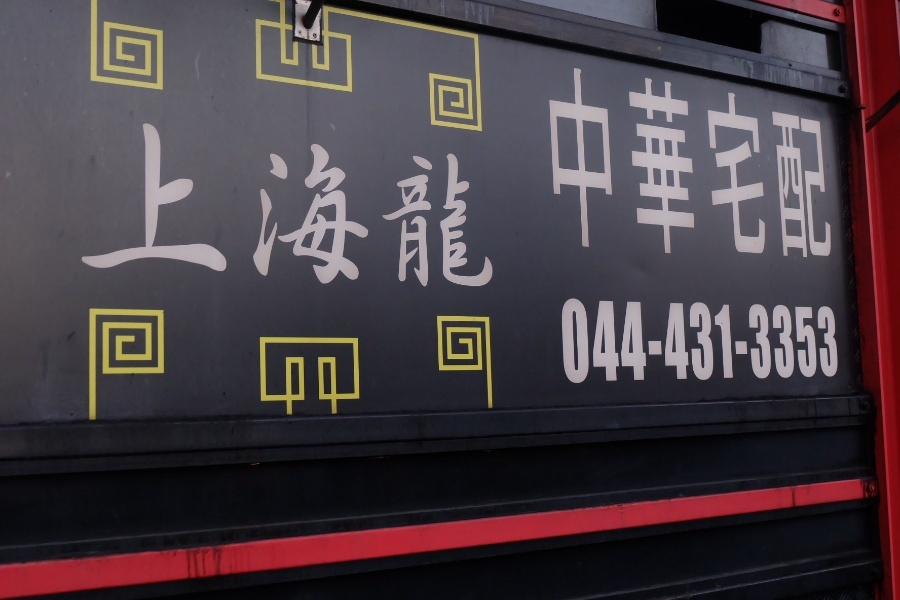text: (561, 54, 576, 265), (577, 54, 592, 265), (593, 54, 608, 265), (609, 54, 624, 265), (625, 54, 640, 265), (641, 54, 656, 265), (657, 54, 672, 265), (673, 54, 688, 265), (689, 54, 704, 265), (705, 54, 720, 265), (721, 54, 736, 265), (737, 54, 752, 265), (753, 54, 768, 265), (769, 54, 784, 265), (785, 54, 800, 265), (801, 54, 816, 265), (817, 54, 832, 265), (546, 54, 560, 265), (145, 120, 160, 300), (161, 120, 176, 300), (177, 120, 192, 300), (193, 120, 208, 300), (209, 120, 224, 300), (225, 120, 240, 300), (241, 120, 256, 300), (257, 120, 272, 300), (273, 120, 288, 300), (289, 120, 304, 300), (305, 120, 320, 300), (321, 120, 336, 300), (337, 120, 352, 300), (353, 120, 368, 300), (369, 120, 384, 300), (385, 120, 400, 300), (401, 120, 416, 300), (417, 120, 432, 300), (433, 120, 448, 300), (449, 120, 464, 300), (465, 120, 480, 300), (481, 120, 496, 300), (561, 295, 576, 387), (577, 295, 592, 387), (593, 295, 608, 387), (609, 295, 624, 387), (625, 295, 640, 387), (641, 295, 656, 387), (657, 295, 672, 387), (673, 295, 688, 387), (689, 295, 704, 387), (705, 295, 720, 387), (721, 295, 736, 387), (737, 295, 752, 387), (753, 295, 768, 387), (769, 295, 784, 387), (785, 295, 800, 387), (801, 295, 816, 387), (817, 295, 832, 387), (833, 295, 843, 387), (139, 120, 144, 300), (497, 120, 501, 300), (833, 54, 836, 265), (559, 295, 560, 387)
